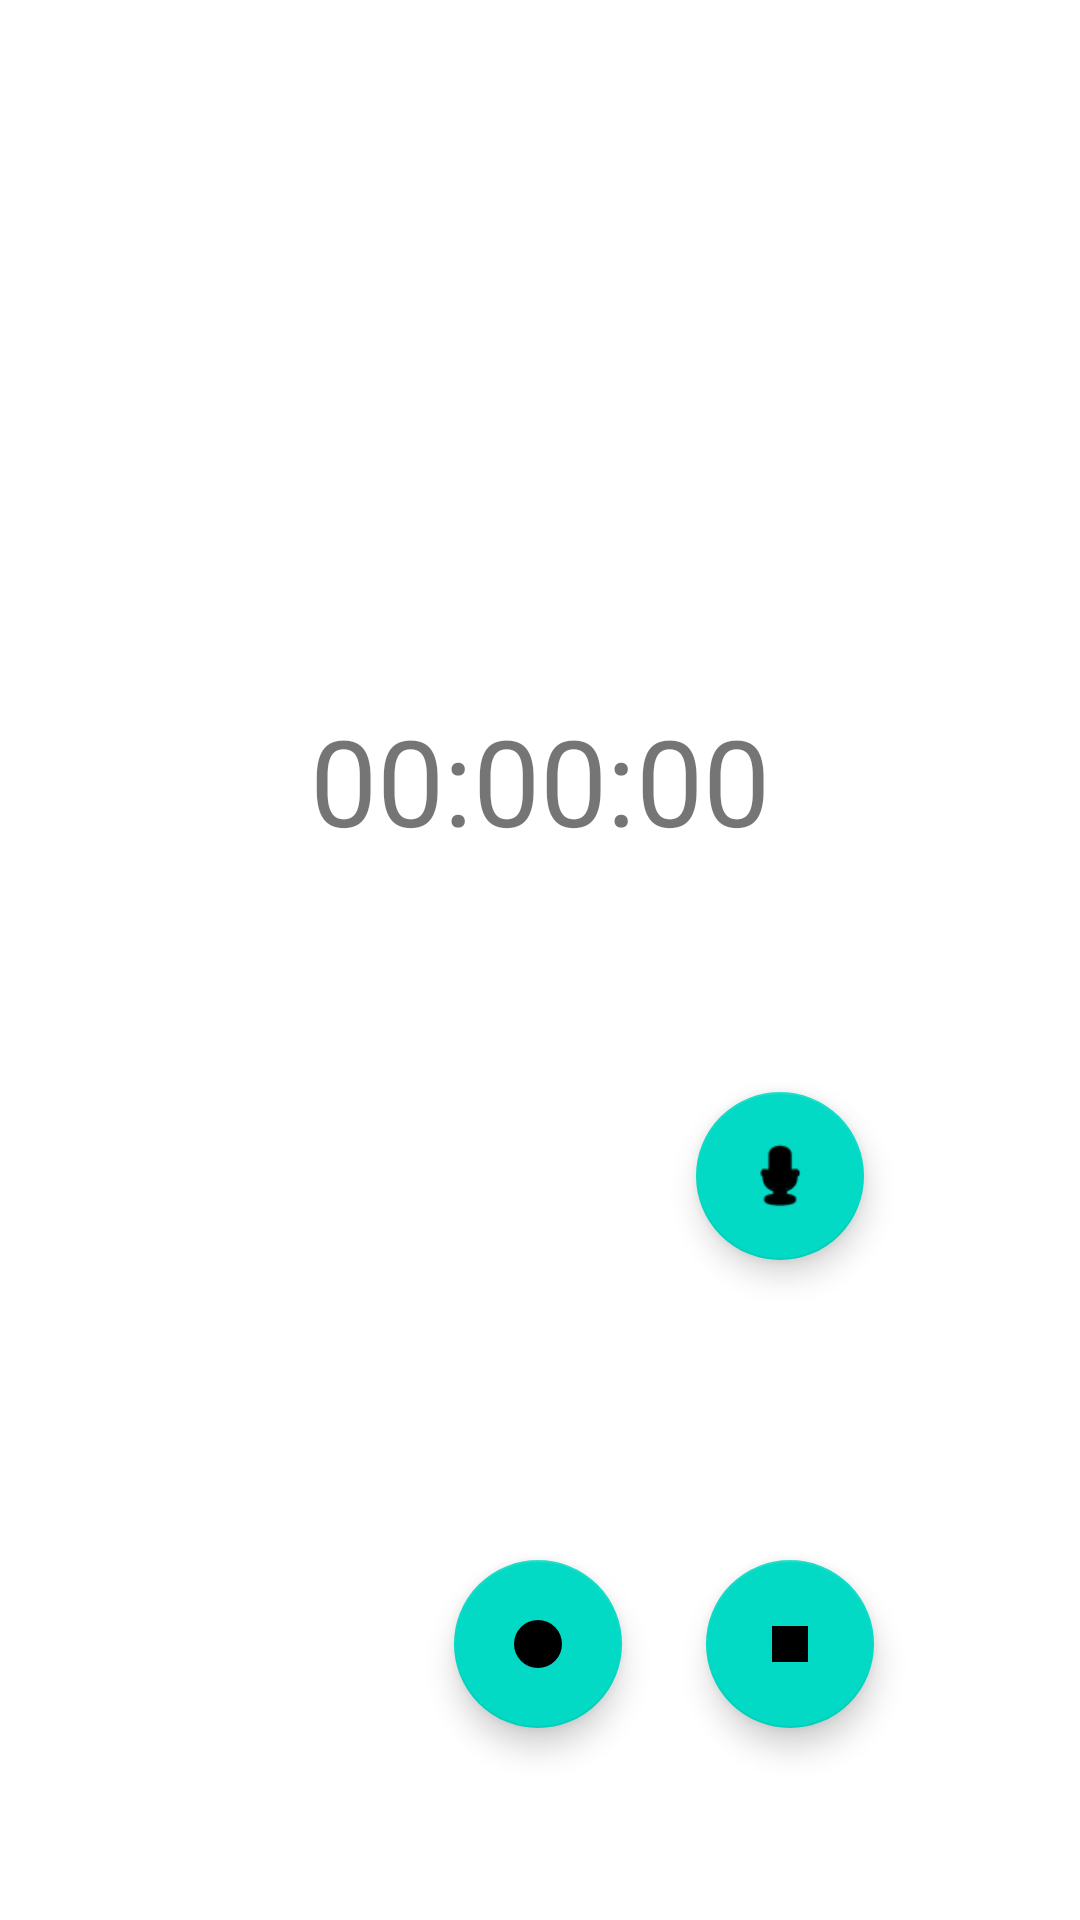

Where to tap for icons on this 1080 × 1920 app screen, as (x,y):
fiber manual record: (538,1644)
presence audio busy: (780,1176)
stop: (790,1644)
